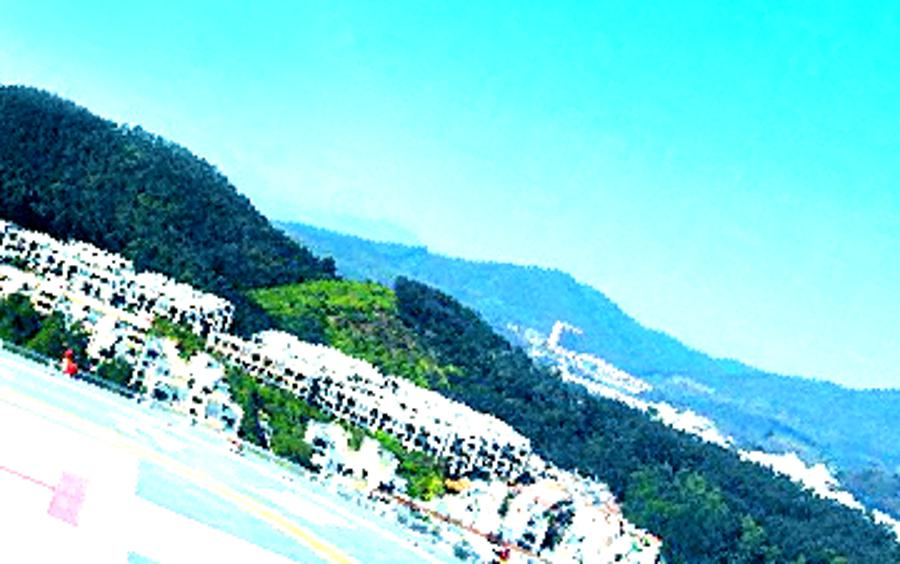Apron: (1, 376, 381, 562)
